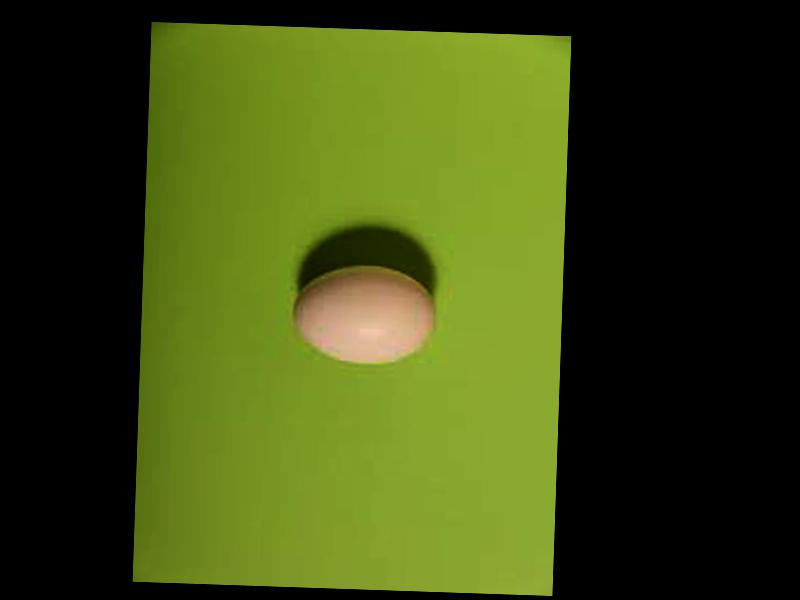Eggs: (289, 262, 436, 363)
